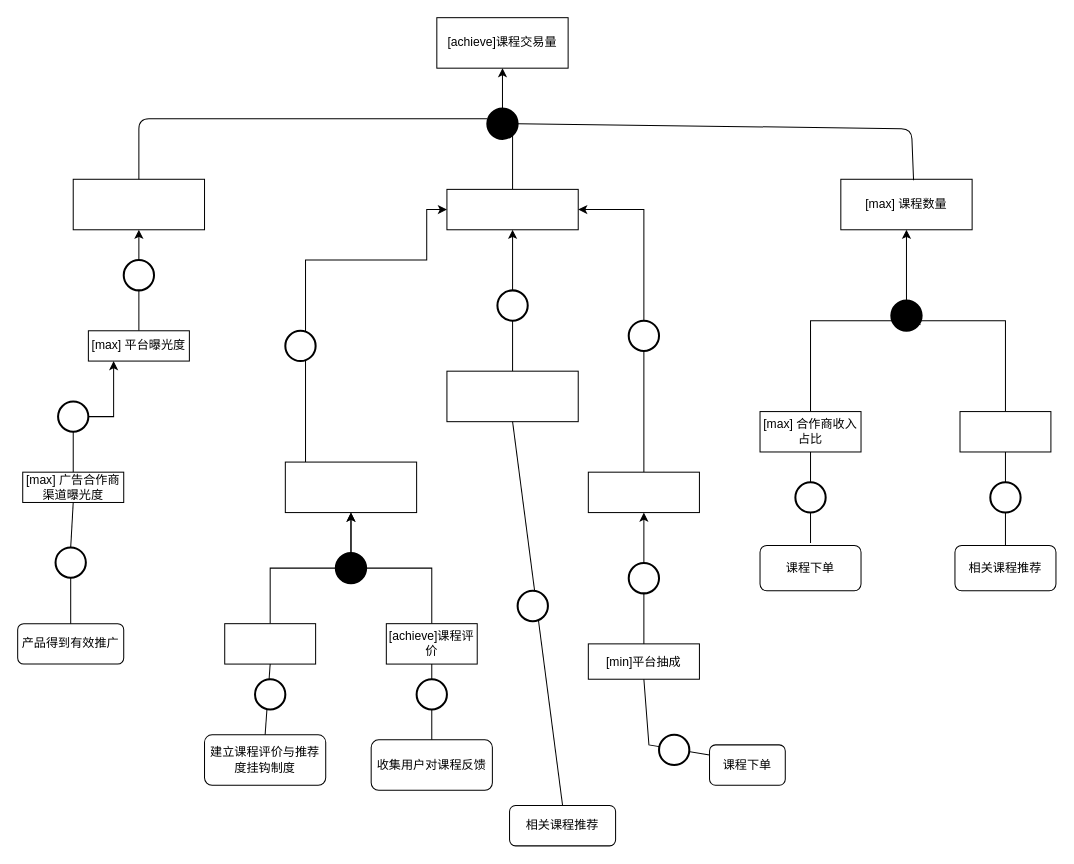
Some shapes in this 1074 by 864 pixel diagram are drawn without their labels. The centre of each missing label's shape, as x and y in pixels:
"[achieve] 奖惩机制" goes at point 270,643.
"[achieve]用户基数" goes at point 138,204.
"[achieve]用户的购买率" goes at point 512,209.
"[avoid]摄影机构流失" goes at point 1005,431.
"[max] 相关课程推荐精确度" goes at point 512,396.
"[max] 课程优惠力度" goes at point 643,492.
"[max] 课程质量" goes at point 350,487.
